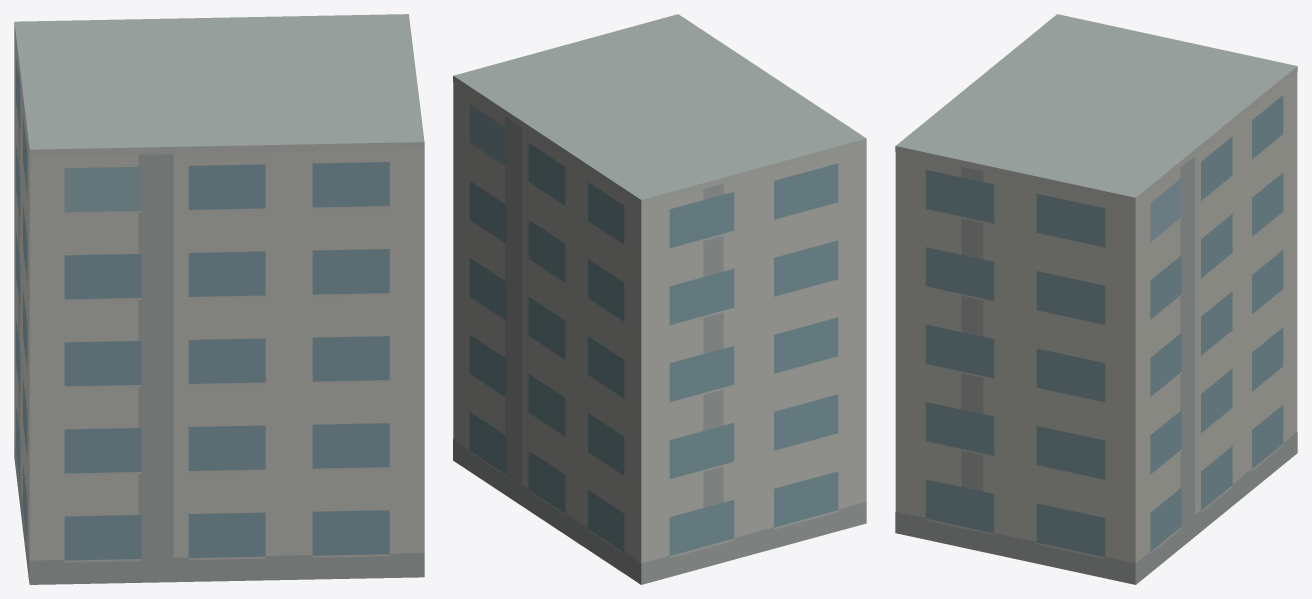
File: survey-upis-32884937.glb
The picture shows the model from 3 angles, left to right: view 1: azimuth 30°, elevation 25°; view 2: azimuth 150°, elevation 25°; view 3: azimuth 270°, elevation 25°; orthographic projection. The views are drawn at different scales.
Visible parts, largest first — view 1: survey-upis-32884937.tmp; view 2: survey-upis-32884937.tmp; view 3: survey-upis-32884937.tmp.
Boxes of the visible parts, x1,y1,x2,y2 form: survey-upis-32884937.tmp: (14,14,424,584); survey-upis-32884937.tmp: (453,14,866,584); survey-upis-32884937.tmp: (895,14,1297,584).
Size of the model in its own units: 14.87 by 14.6 by 13.75.
